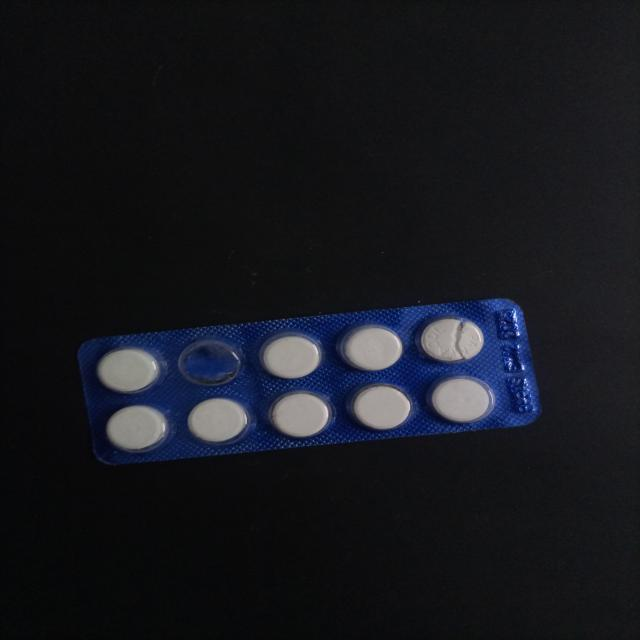defect: (174, 336, 247, 389), (413, 314, 486, 366)
